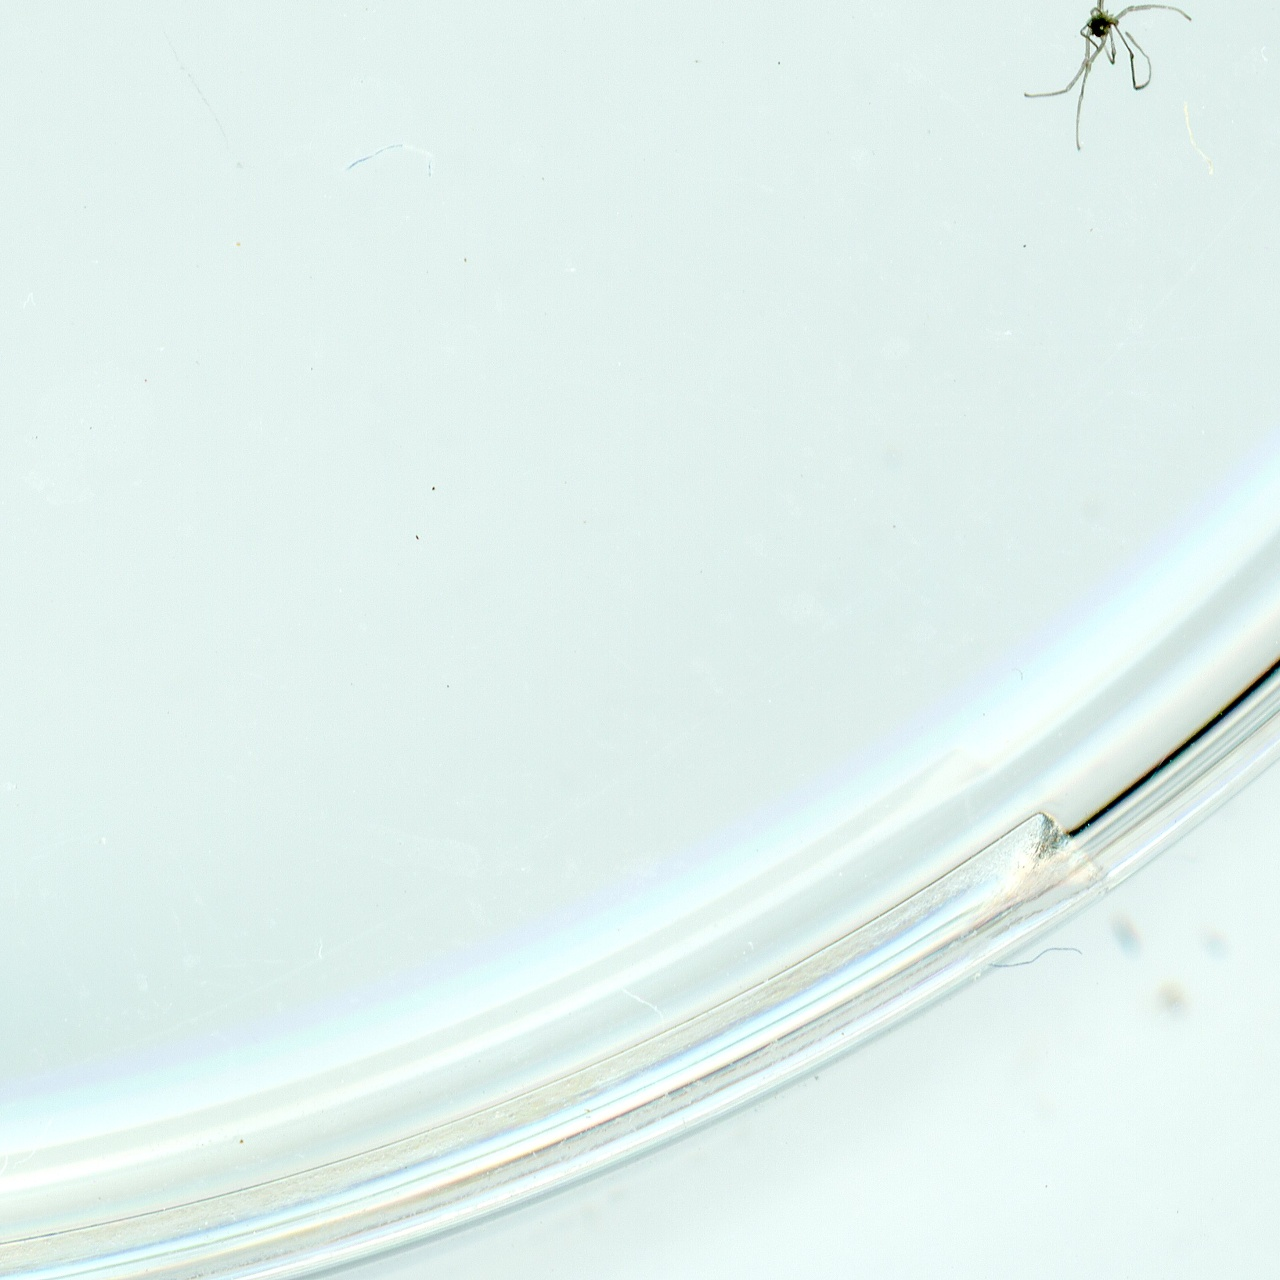arthropod: (1011, 0, 1200, 156)
